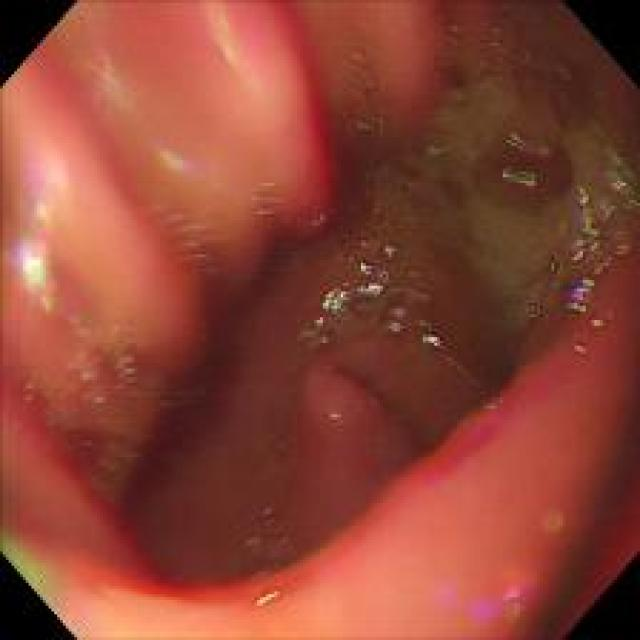blur: (4, 2, 358, 636)
bubbles: (380, 42, 581, 295), (345, 45, 380, 136), (242, 534, 261, 551), (20, 392, 36, 408)
color misalignment: (5, 529, 119, 632), (12, 154, 64, 315), (432, 578, 552, 629), (565, 179, 610, 312), (75, 338, 151, 410), (76, 35, 138, 122), (206, 19, 262, 90), (600, 148, 636, 254), (532, 490, 580, 556), (152, 139, 201, 189), (350, 242, 391, 299), (505, 131, 554, 159), (251, 178, 285, 218), (415, 315, 444, 350), (319, 284, 351, 314), (301, 315, 330, 346), (499, 164, 539, 185), (389, 300, 404, 336), (424, 140, 450, 158), (568, 338, 591, 354), (589, 312, 609, 330)
specularity: (321, 289, 345, 311), (255, 589, 279, 606), (354, 282, 382, 295), (422, 334, 441, 344), (359, 261, 369, 274), (381, 245, 394, 254)
